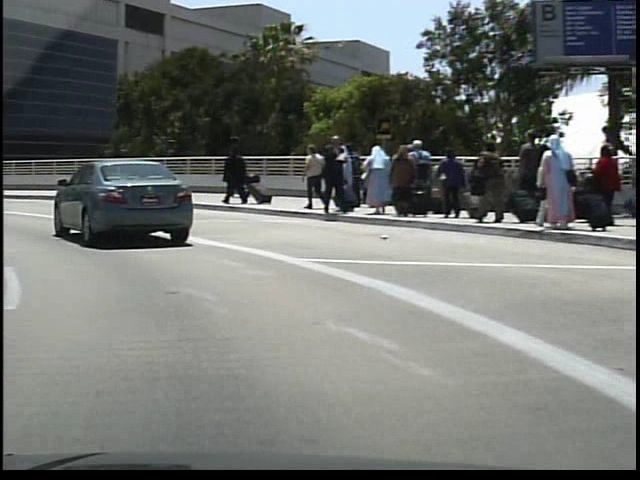person: (314, 133, 347, 215), (218, 145, 246, 204), (297, 141, 320, 210), (228, 153, 247, 201)
